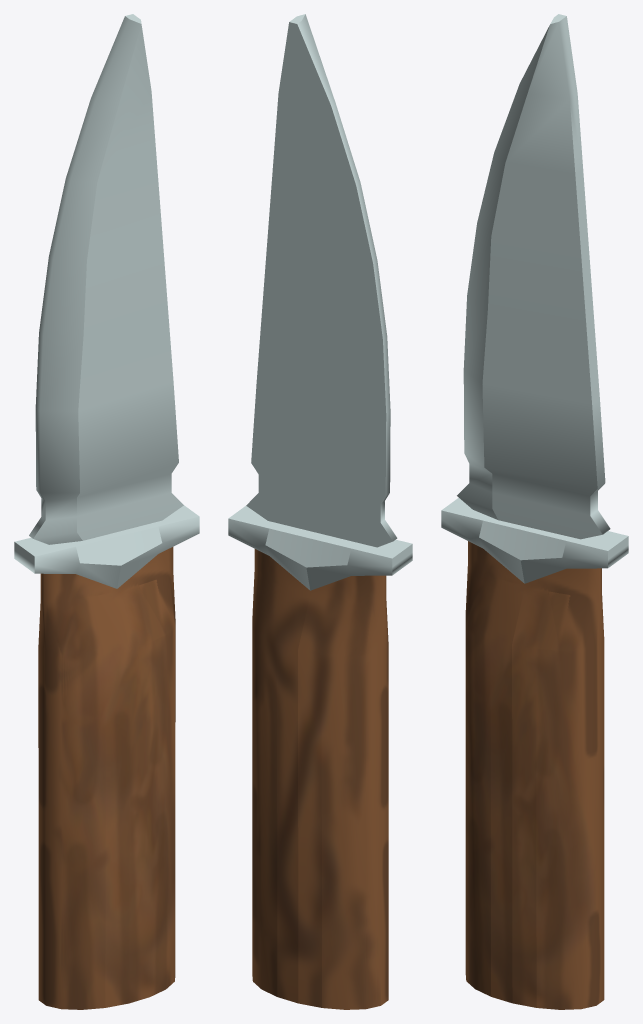
Rendered from Knife (1).fbx.
3 views of the same model, side by side, from view 1: azimuth 30°, elevation 25°; view 2: azimuth 150°, elevation 25°; view 3: azimuth 330°, elevation 25° (orthographic).
Visible parts, largest first — view 1: Knife; view 2: Knife; view 3: Knife.
Part boxes in pixels (box(x1,y1,x2,y2)): Knife: box(14, 14, 199, 1009); Knife: box(228, 14, 412, 1009); Knife: box(441, 14, 628, 1009).
Bounding box in the file's own units: 6.59 × 36.89 × 3.14.
Materials: 2 (1 with a texture image).
